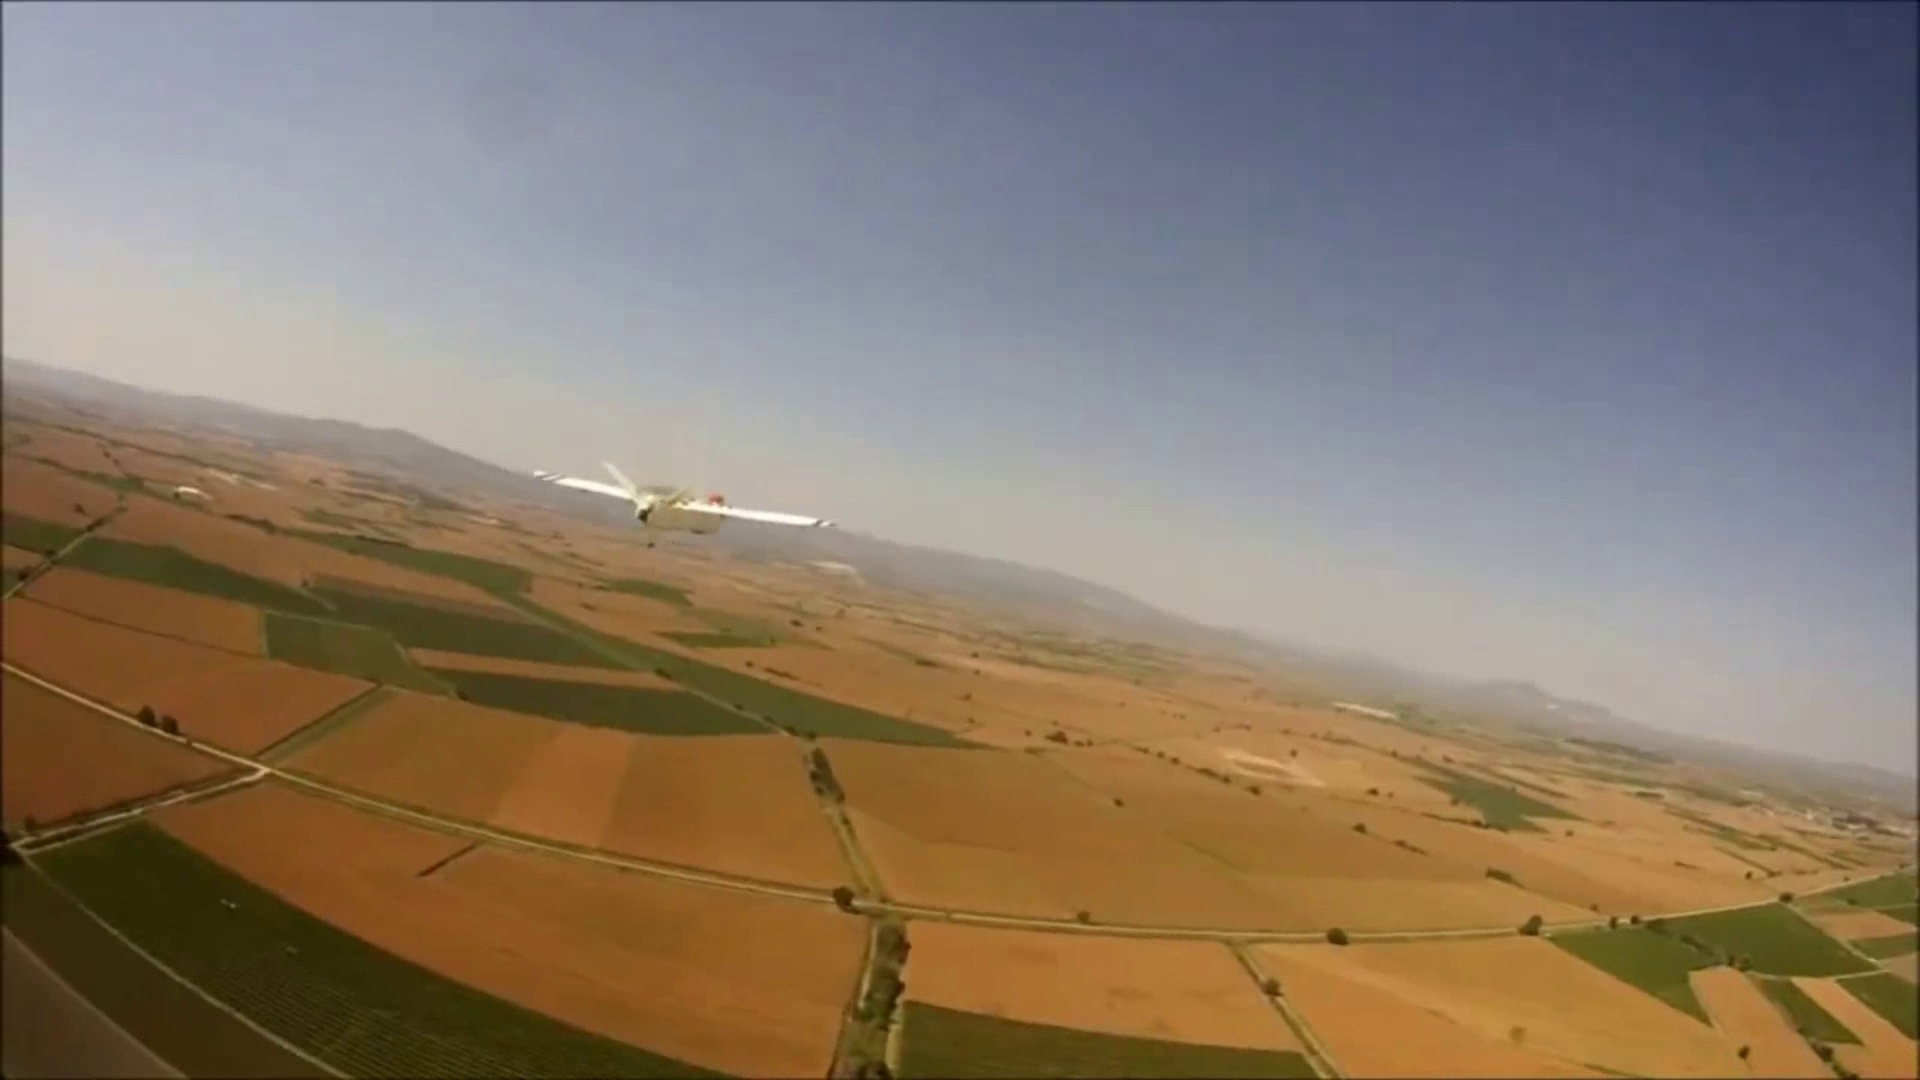airplane: (560, 456, 831, 535)
